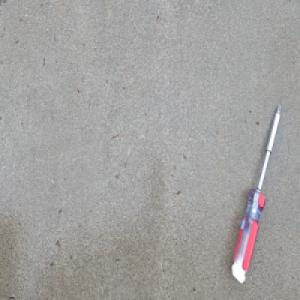Screwdriver: (229, 98, 282, 283)
